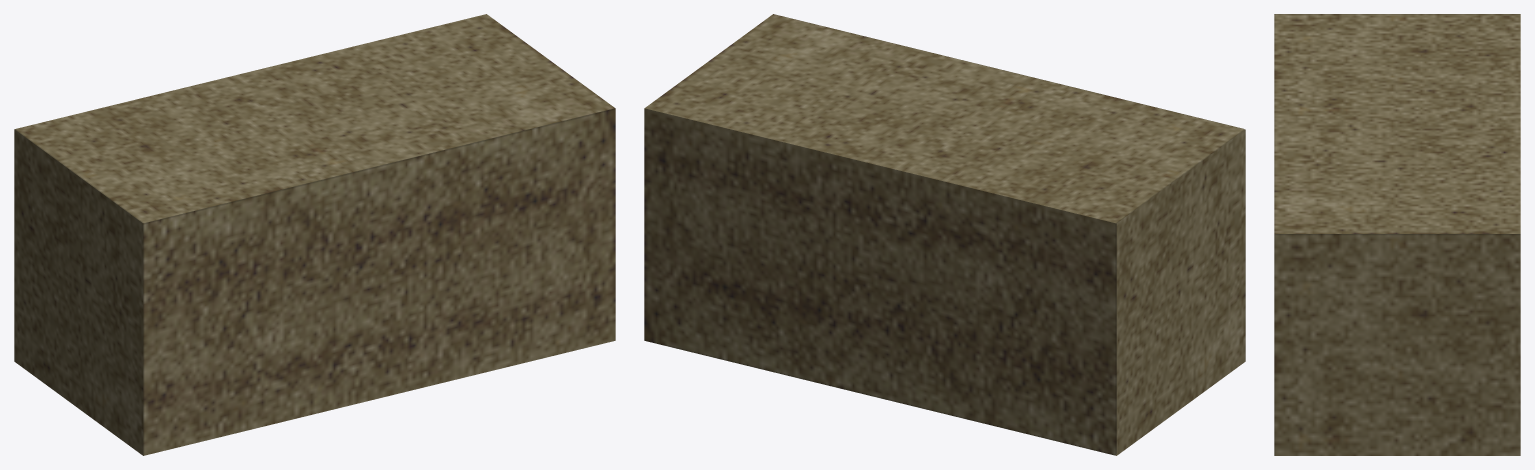
File: SM_EC_Hay_1.fbx
3 renders of one model, left to right at view 1: azimuth 30°, elevation 25°; view 2: azimuth 150°, elevation 25°; view 3: azimuth 270°, elevation 25°, orthographic. The views are drawn at different scales.
Parts seen in each view (by area): view 1: SM_EC_Hay_1; view 2: SM_EC_Hay_1; view 3: SM_EC_Hay_1.
Part boxes in pixels (<box>): SM_EC_Hay_1: <box>14,14,615,455</box>; SM_EC_Hay_1: <box>644,14,1245,455</box>; SM_EC_Hay_1: <box>1274,14,1520,455</box>.
Size of the model in its own units: 1.95 by 0.9209 by 0.9165.
